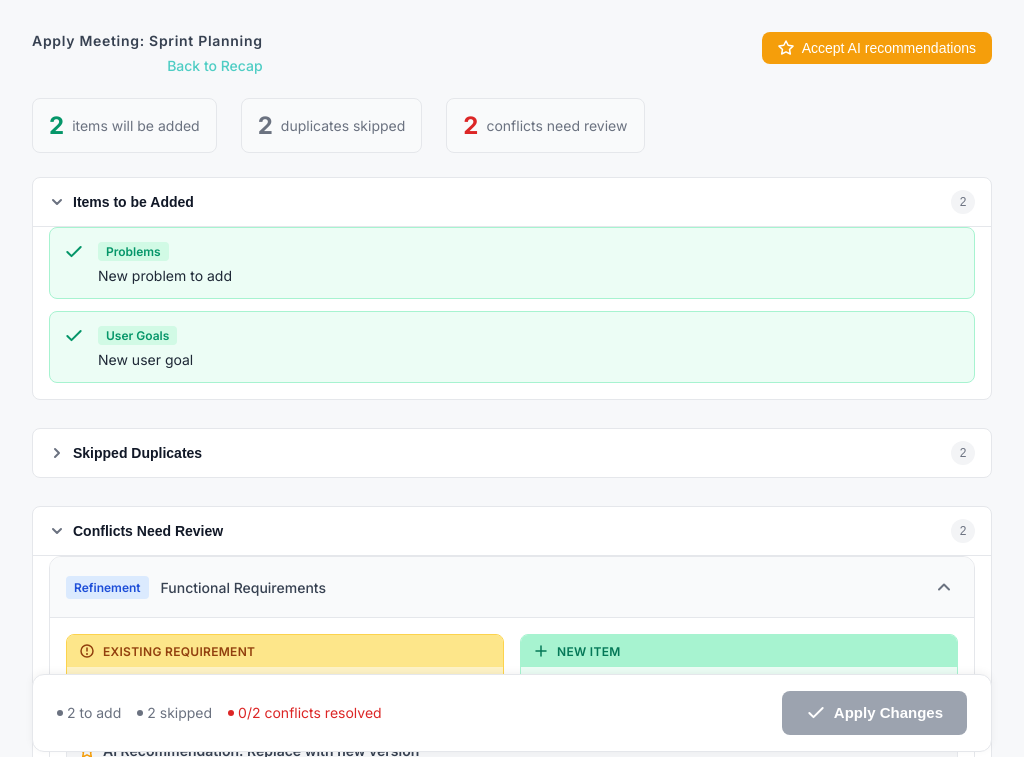
Test: ConflictResolverPage › Summary Rendering › displays Skipped Duplicates section with reason and matched requirement
// Section is collapsed by default, click to expand
What coordinates should you click on to do the following:
click the text "Skipped Duplicates"
I would click on:
 (138, 453)
Its box is [73, 445, 202, 461].
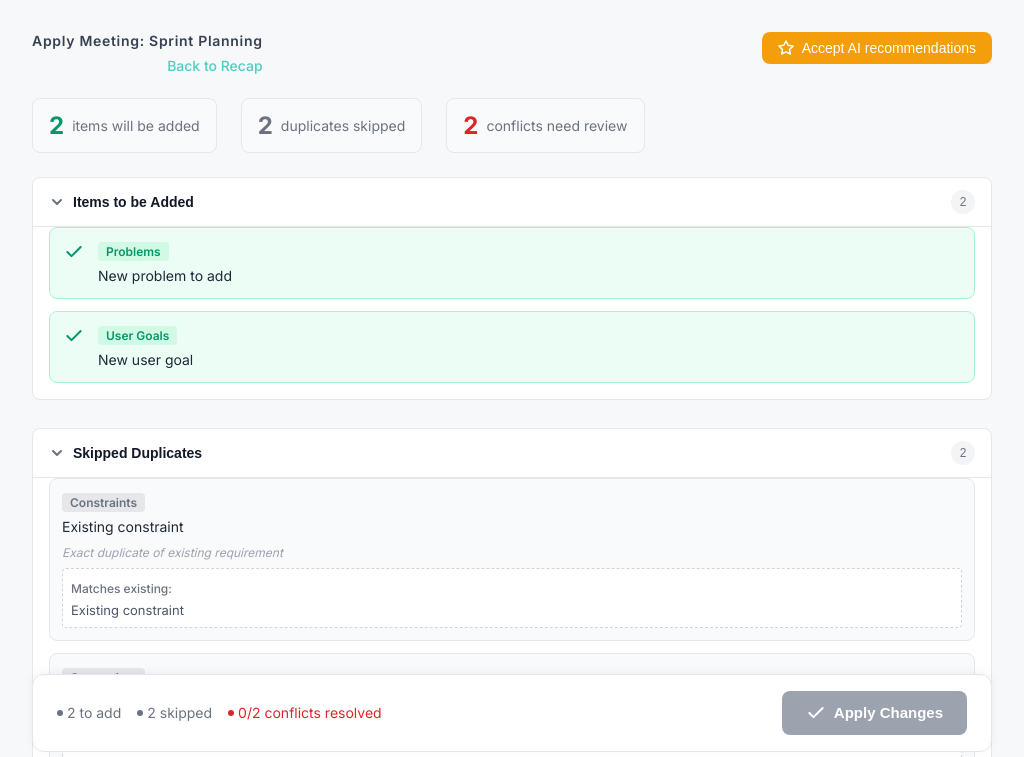
Result: the text "Exact duplicate of existing requirement" is shown at [62, 545, 283, 560]
Result: the text "Matches existing:" below "Exact duplicate of existing requirement" is shown at [71, 581, 172, 596]
